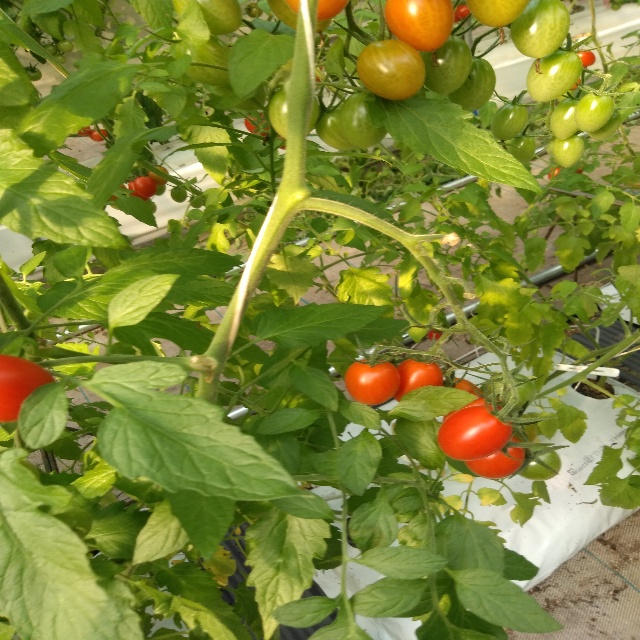l_fully_ripened: (437, 405, 513, 460), (0, 354, 61, 422), (462, 437, 525, 479), (345, 360, 400, 405), (393, 356, 443, 403), (134, 176, 157, 198), (575, 49, 596, 67), (88, 129, 107, 142)
l_green: (510, 0, 571, 59), (417, 35, 473, 95), (176, 38, 242, 85), (526, 51, 583, 103), (338, 91, 387, 149), (446, 57, 497, 112), (269, 88, 319, 140), (171, 0, 243, 36), (266, 0, 331, 33), (315, 106, 361, 151), (484, 372, 537, 410), (514, 445, 562, 481), (574, 91, 615, 132), (490, 103, 528, 140), (550, 98, 581, 140), (547, 134, 584, 168), (586, 110, 622, 141), (508, 134, 536, 164)
l_half_ripened: (356, 39, 426, 100), (383, 0, 455, 52), (465, 0, 531, 28), (285, 1, 350, 21), (148, 166, 168, 186)
